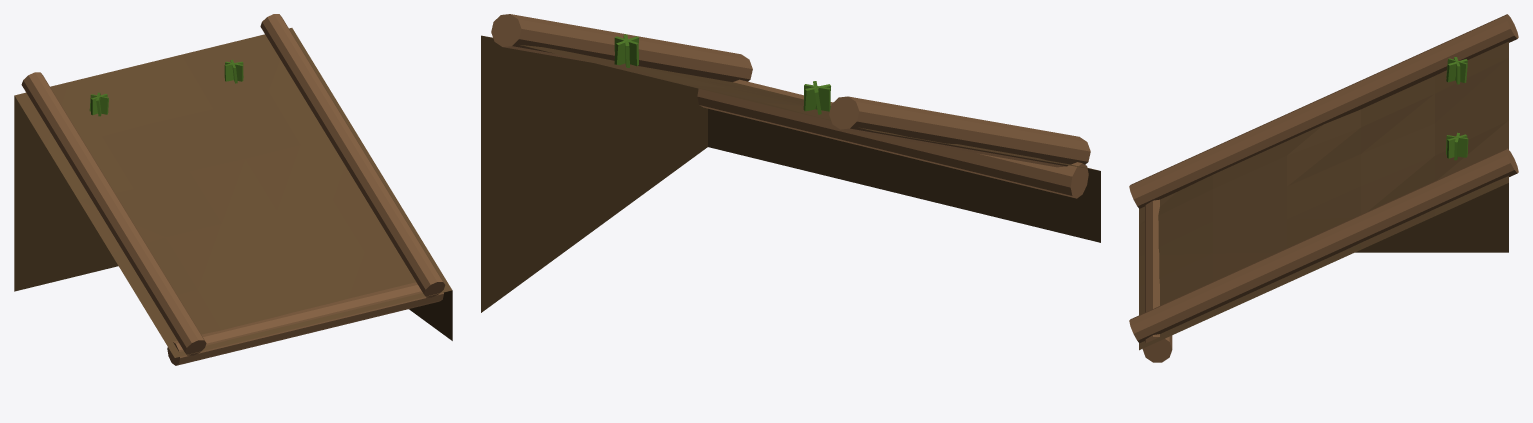
The model's file is SM_Terrain_Rustic_01_Slope.glb.
3 views of the same model, side by side, from view 1: azimuth 30°, elevation 25°; view 2: azimuth 150°, elevation 25°; view 3: azimuth 270°, elevation 25° (orthographic). The views are drawn at different scales.
Visible parts, largest first — view 1: SM_Terrain_Rustic_01_Slope_Ramp, SM_Terrain_Rustic_01_Slope_RailLog0, SM_Terrain_Rustic_01_Slope_RailLog1, SM_Terrain_Rustic_01_Slope_FootLog; view 2: SM_Terrain_Rustic_01_Slope_Ramp, SM_Terrain_Rustic_01_Slope_RailLog0, SM_Terrain_Rustic_01_Slope_FootLog, SM_Terrain_Rustic_01_Slope_RailLog1; view 3: SM_Terrain_Rustic_01_Slope_Ramp, SM_Terrain_Rustic_01_Slope_RailLog1, SM_Terrain_Rustic_01_Slope_RailLog0, SM_Terrain_Rustic_01_Slope_FootLog.
Part boxes in pixels (bbox=[...]): SM_Terrain_Rustic_01_Slope_Ramp: bbox=[14, 28, 452, 357]; SM_Terrain_Rustic_01_Slope_RailLog0: bbox=[21, 72, 206, 355]; SM_Terrain_Rustic_01_Slope_RailLog1: bbox=[260, 14, 445, 297]; SM_Terrain_Rustic_01_Slope_FootLog: bbox=[167, 282, 443, 365]; SM_Terrain_Rustic_01_Slope_Ramp: bbox=[481, 35, 1100, 312]; SM_Terrain_Rustic_01_Slope_RailLog0: bbox=[829, 96, 1090, 167]; SM_Terrain_Rustic_01_Slope_FootLog: bbox=[697, 79, 1088, 198]; SM_Terrain_Rustic_01_Slope_RailLog1: bbox=[491, 14, 752, 81]; SM_Terrain_Rustic_01_Slope_Ramp: bbox=[1139, 41, 1508, 350]; SM_Terrain_Rustic_01_Slope_RailLog1: bbox=[1129, 148, 1518, 343]; SM_Terrain_Rustic_01_Slope_RailLog0: bbox=[1129, 14, 1518, 208]; SM_Terrain_Rustic_01_Slope_FootLog: bbox=[1142, 199, 1172, 362].
Bounding box in the file's own units: 2 × 1.48 × 2.11.
